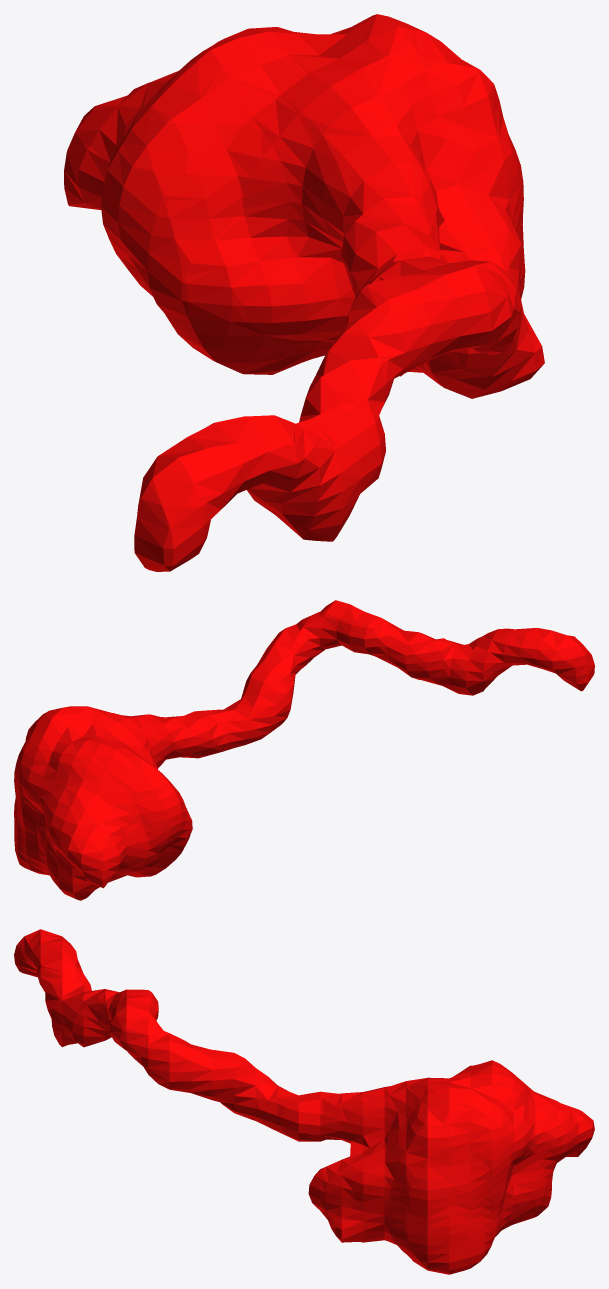
File: yceH_coarse.dae
The picture shows the model from 3 angles, top to bottom: view 1: azimuth 30°, elevation 25°; view 2: azimuth 150°, elevation 25°; view 3: azimuth 270°, elevation 25°; orthographic projection. The views are drawn at different scales.
Parts seen in each view (by area): view 1: yceH; view 2: yceH; view 3: yceH.
Part boxes in pixels (x1,y1,x2,y2): yceH: (64,14,544,571); yceH: (14,600,594,900); yceH: (14,929,594,1274).
Bounding box in the file's own units: 92.64 × 43.64 × 118.
